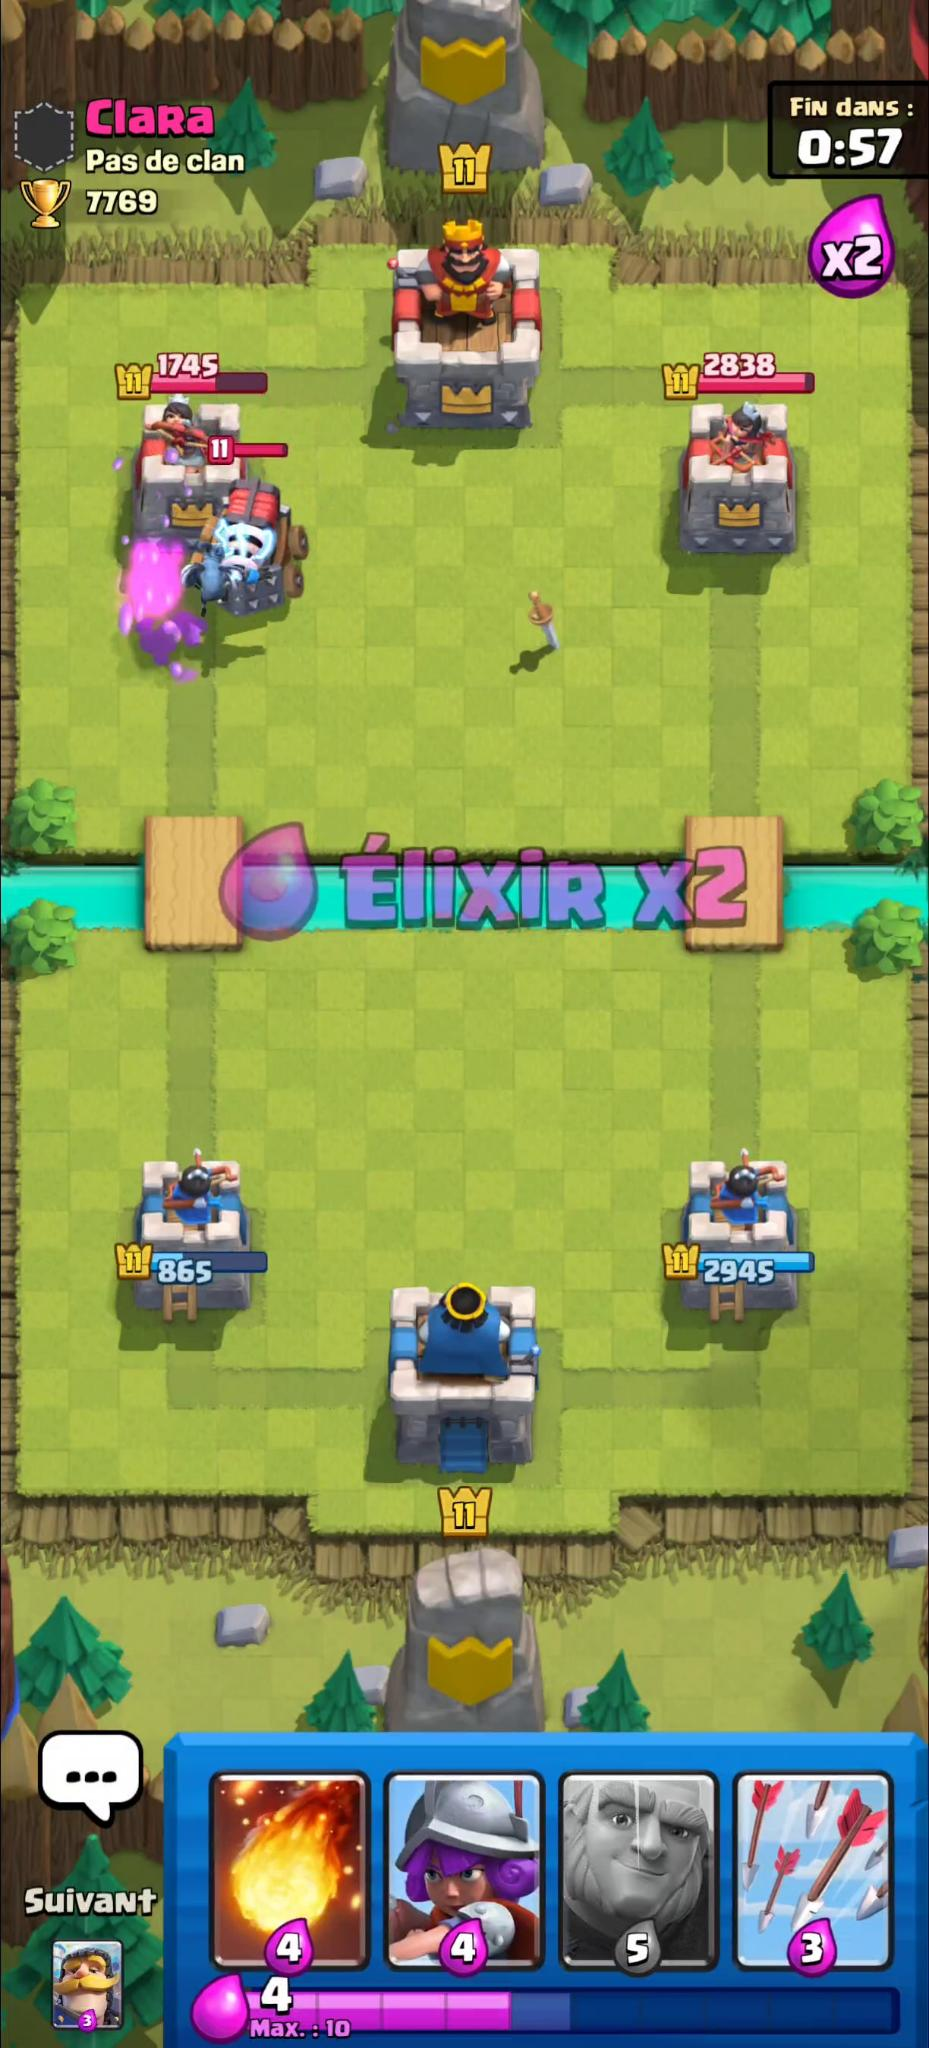gargouille: (180, 539, 246, 618)
zappy: (203, 481, 310, 614)
